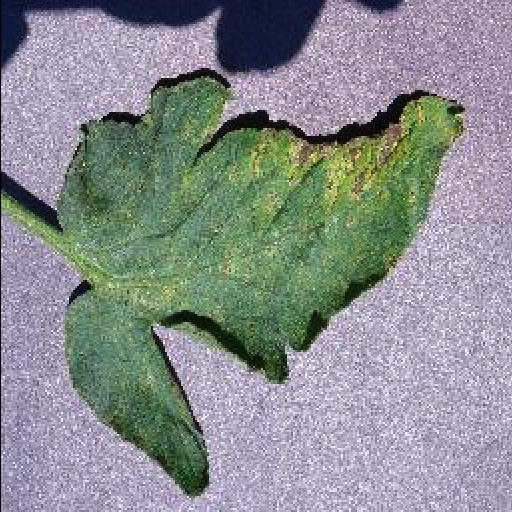disease_tomato: (56, 74, 462, 495)
